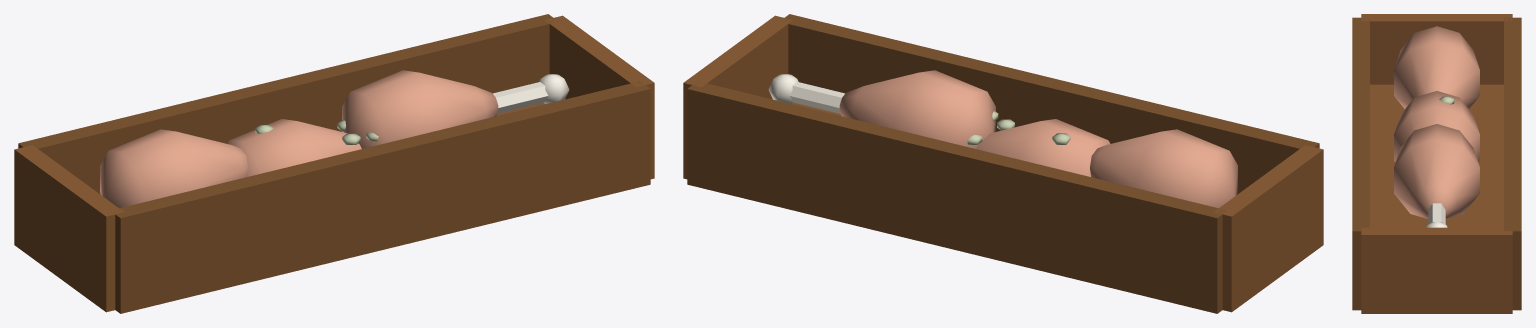
The model's file is Meat_Bird.fbx.
3 renders of one model, left to right at view 1: azimuth 30°, elevation 25°; view 2: azimuth 150°, elevation 25°; view 3: azimuth 270°, elevation 25°, orthographic. The views are drawn at different scales.
Parts seen in each view (by area): view 1: Meat_Bird__Stack, Meat_Bird, Meat_Bird__Rotten; view 2: Meat_Bird__Stack, Meat_Bird, Meat_Bird__Rotten; view 3: Meat_Bird__Stack, Meat_Bird.
Boxes of the visible parts, left/top/right/bottom form: Meat_Bird__Stack: left=14, top=14, right=654, bottom=313; Meat_Bird: left=227, top=119, right=361, bottom=176; Meat_Bird__Rotten: left=255, top=120, right=378, bottom=144; Meat_Bird__Stack: left=683, top=14, right=1323, bottom=313; Meat_Bird: left=976, top=119, right=1110, bottom=176; Meat_Bird__Rotten: left=967, top=111, right=1070, bottom=144; Meat_Bird__Stack: left=1352, top=14, right=1521, bottom=313; Meat_Bird: left=1394, top=91, right=1479, bottom=161.
Bounding box in the file's own units: 0.2399 × 0.0496 × 0.0776.
